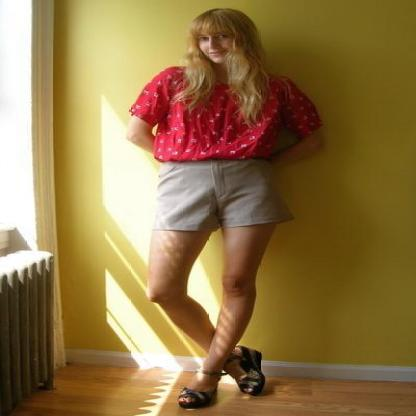shirt: (129, 65, 322, 170)
shoe: (179, 347, 273, 408)
shorts: (149, 158, 294, 240)
